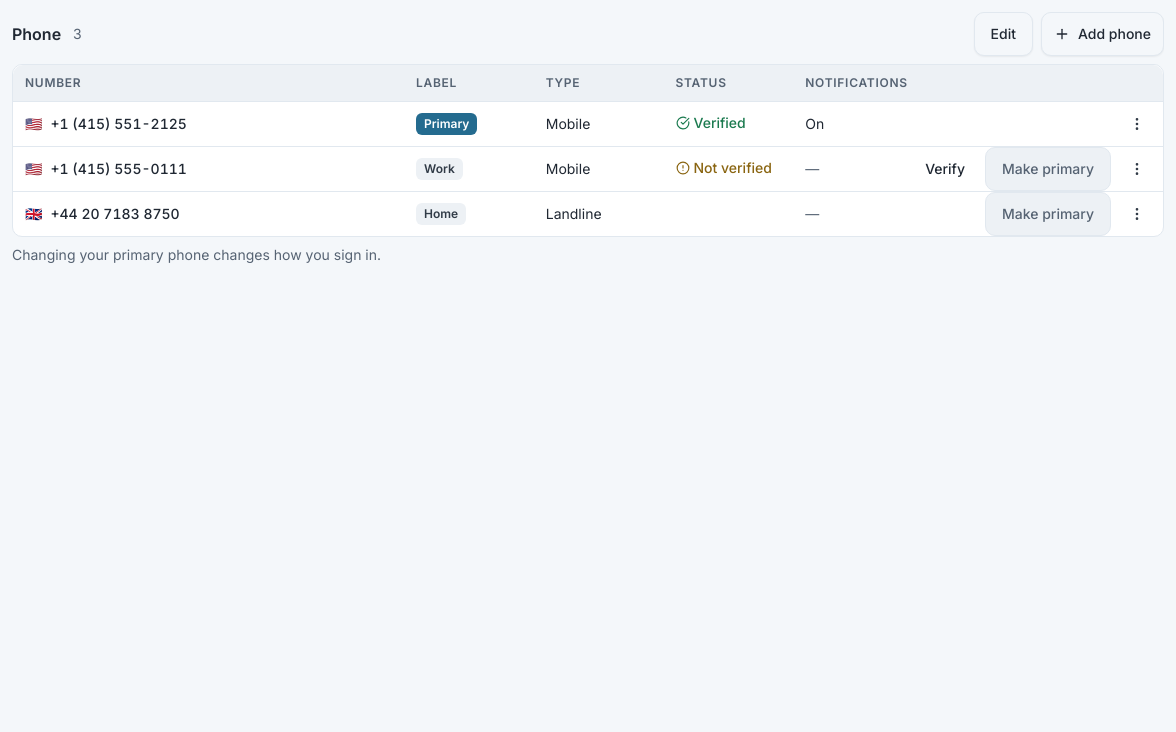
PhoneSection: read-view entry points (Story 3.2) › the Label list is the type key's labels in display order, without Primary (the enum while it hasn't loaded)
This screenshot has width=1176, height=732.
Click the button "Edit": (1003, 34) [974,12,1033,56]
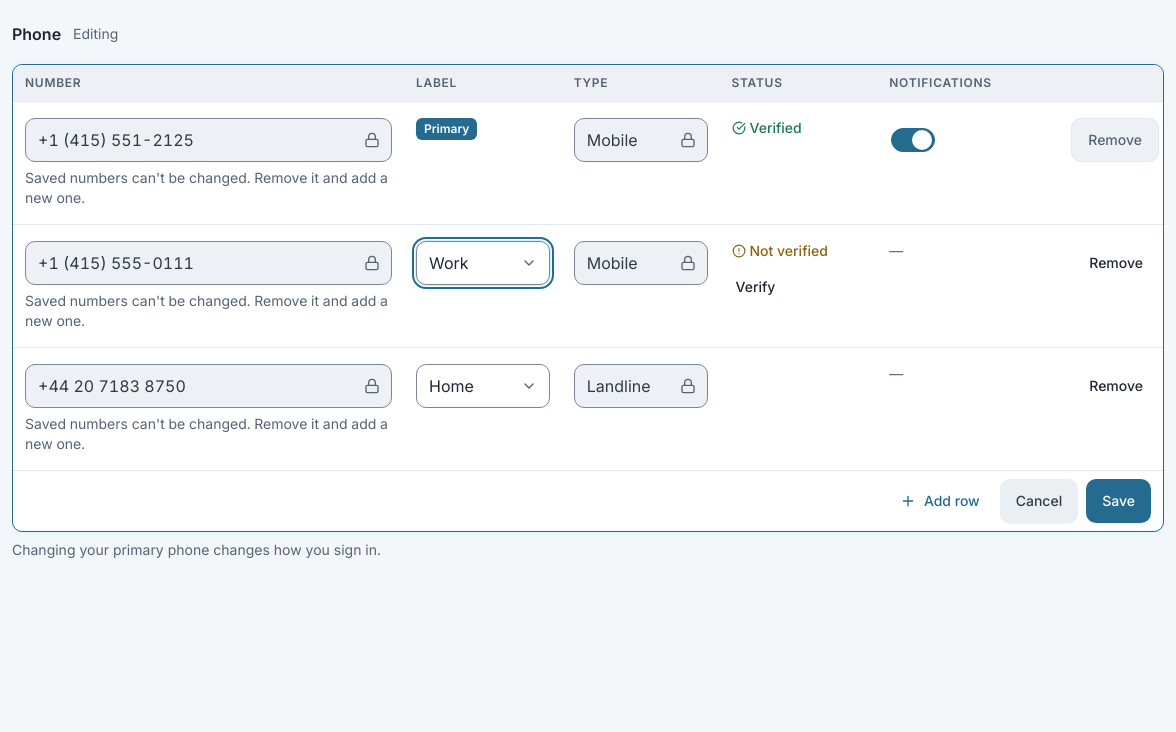
Press Enter in the dropdown named "Label", box [416,240,550,284]
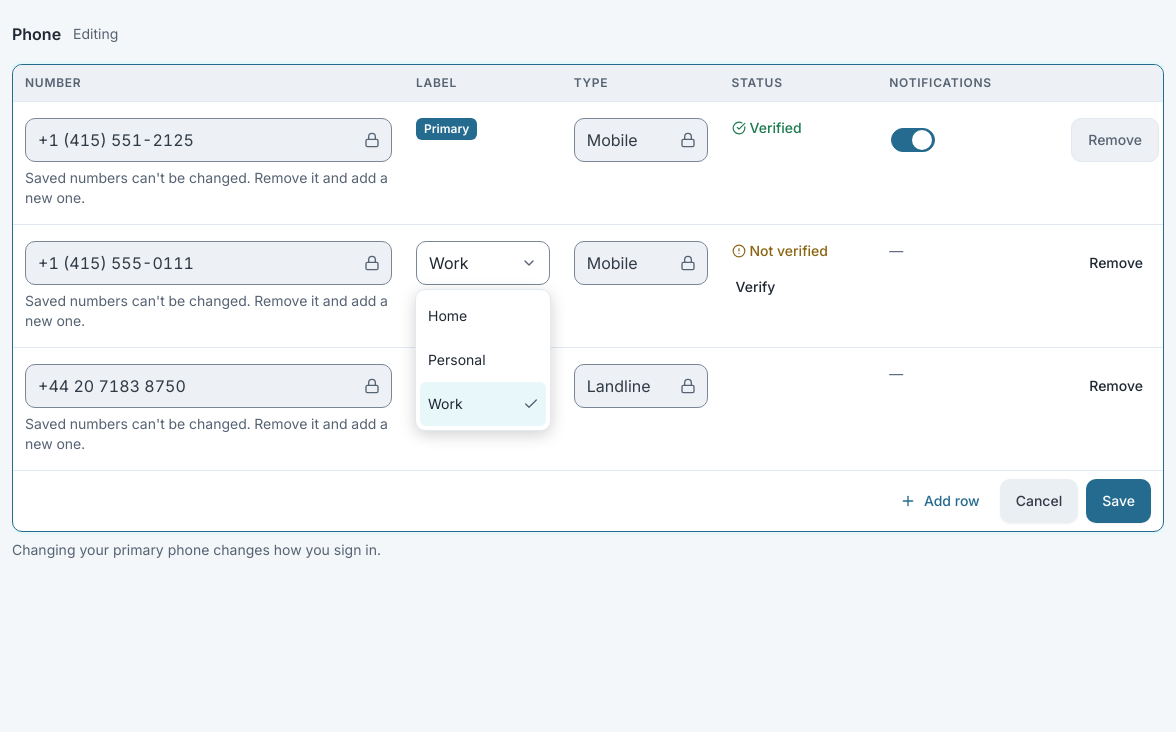
Expected: the options read "Home", "Personal", "Work", in this order, [428,307,467,324]; [428,351,486,368]; [420,382,546,426]
